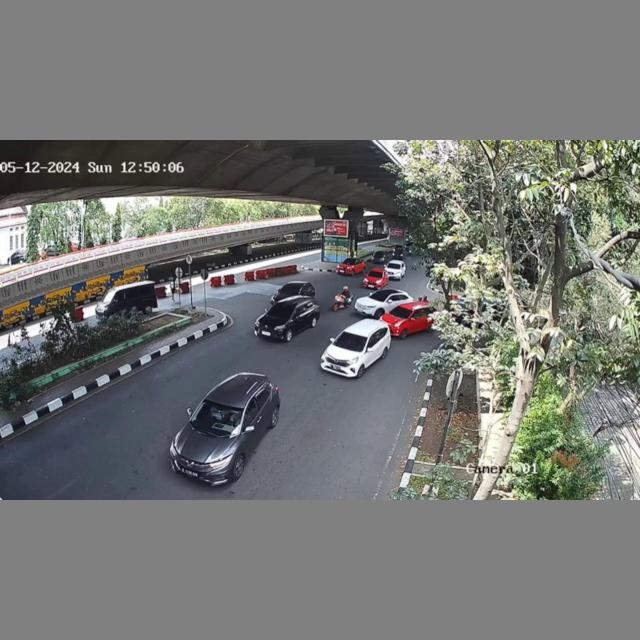windshield: (192, 399, 245, 436), (334, 331, 366, 352), (270, 301, 294, 320)
